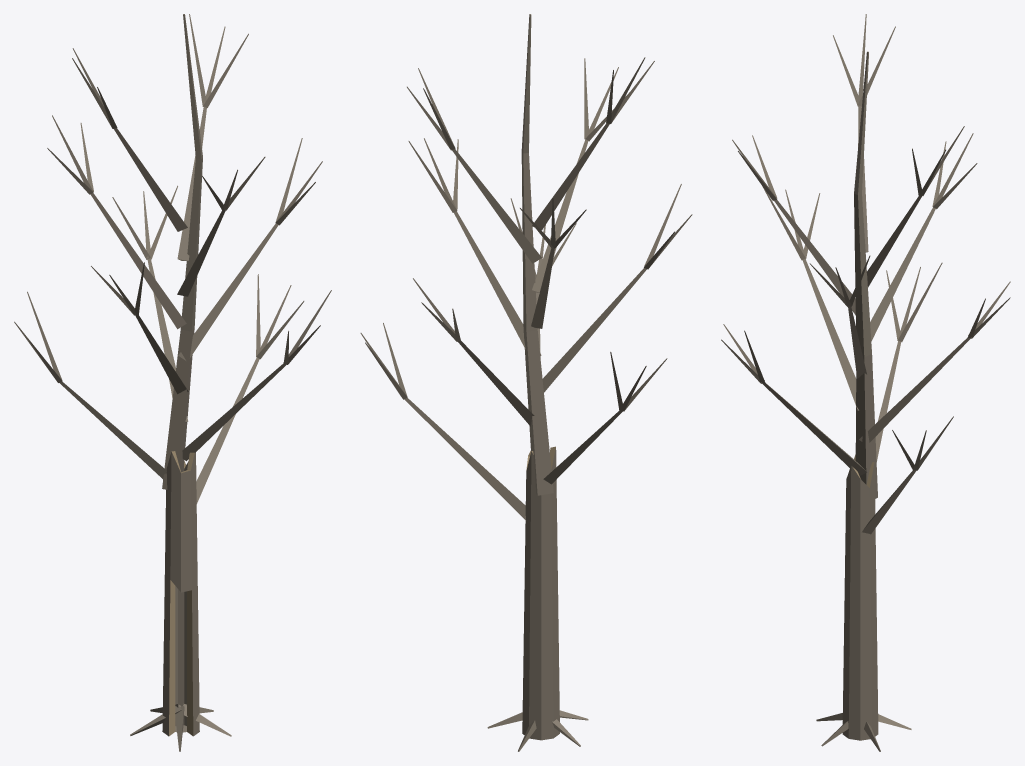
The model's file is birch-dead-lod1.glb.
3 views of the same model, side by side, from view 1: azimuth 30°, elevation 25°; view 2: azimuth 150°, elevation 25°; view 3: azimuth 270°, elevation 25° (orthographic). The views are drawn at different scales.
Parts seen in each view (by area): view 1: tree_birch-dead_LOD1; view 2: tree_birch-dead_LOD1; view 3: tree_birch-dead_LOD1.
Boxes of the visible parts, x1,y1,x2,y2 form: tree_birch-dead_LOD1: (14,14,331,751); tree_birch-dead_LOD1: (360,14,692,751); tree_birch-dead_LOD1: (721,14,1010,751).
Size of the model in its own units: 5 by 12 by 4.6.
